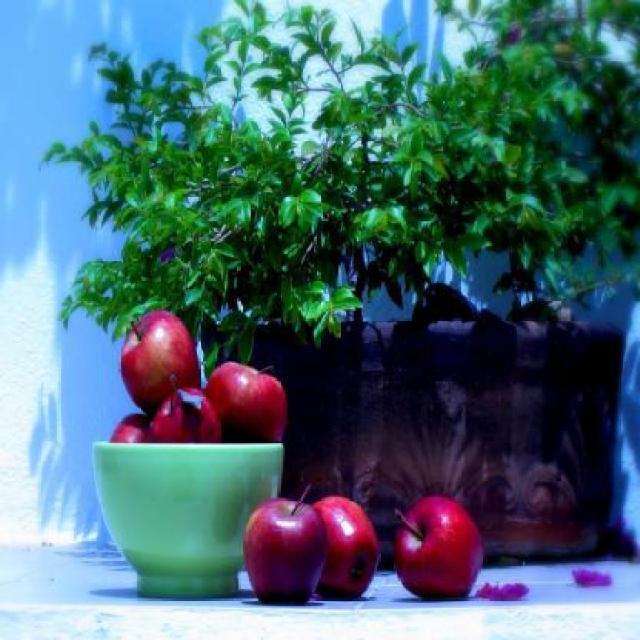Apple pie: (393, 493, 484, 599), (239, 500, 324, 611), (120, 308, 200, 418), (206, 358, 292, 444), (312, 492, 381, 598), (146, 374, 220, 448), (109, 414, 151, 443)
